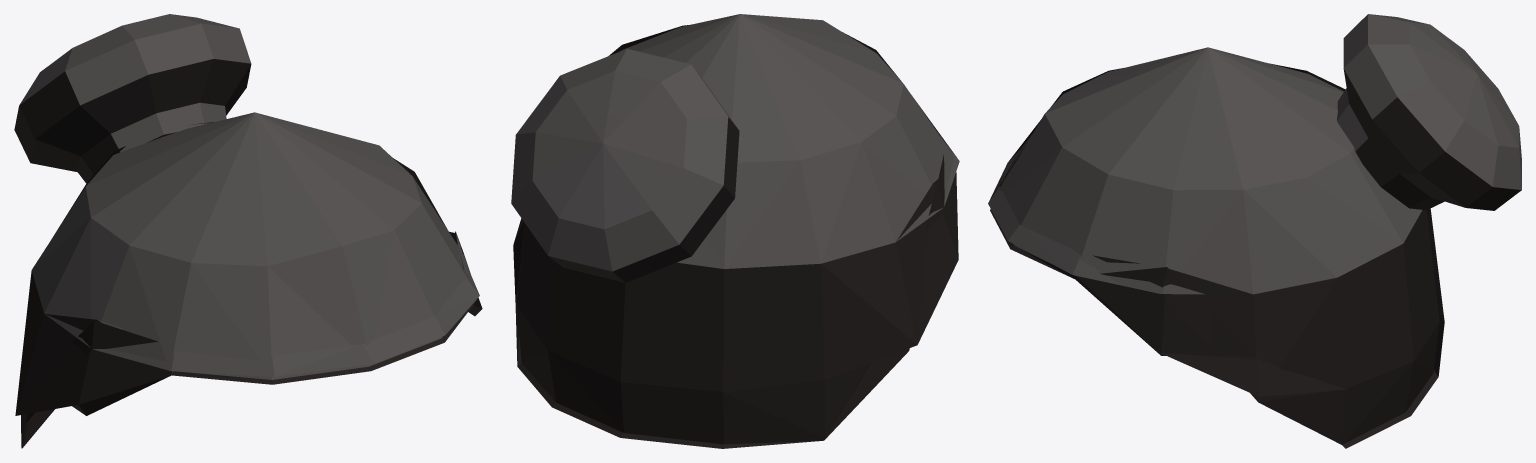
File: hair_bun_01.glb
The picture shows the model from 3 angles, left to right: view 1: azimuth 30°, elevation 25°; view 2: azimuth 150°, elevation 25°; view 3: azimuth 270°, elevation 25°; orthographic projection. The views are drawn at different scales.
Visible parts, largest first — view 1: hair_bun_01; view 2: hair_bun_01; view 3: hair_bun_01.
Part boxes in pixels (box(x1,y1,x2,y2)): hair_bun_01: box(14, 14, 482, 448); hair_bun_01: box(511, 14, 959, 448); hair_bun_01: box(988, 14, 1521, 448).
Bounding box in the file's own units: 0.2751 × 0.2313 × 0.3228.
1 material, 1 textured.
